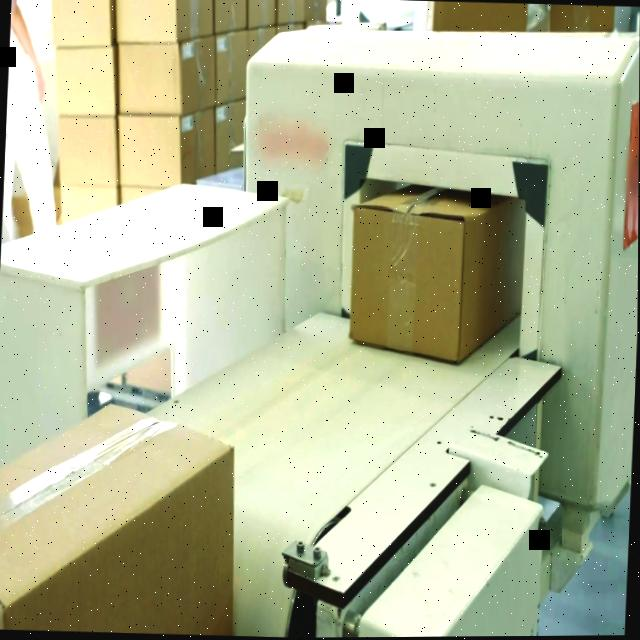box: (0, 392, 245, 637), (342, 174, 529, 378)
